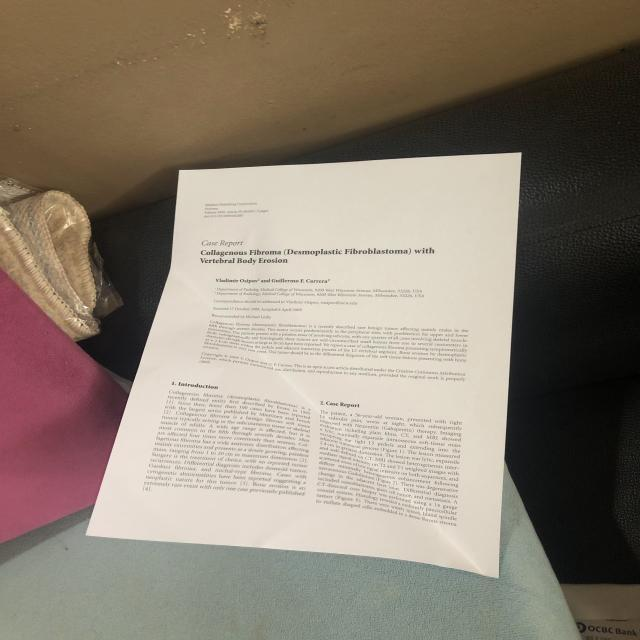kertas: (87, 131, 522, 577)
